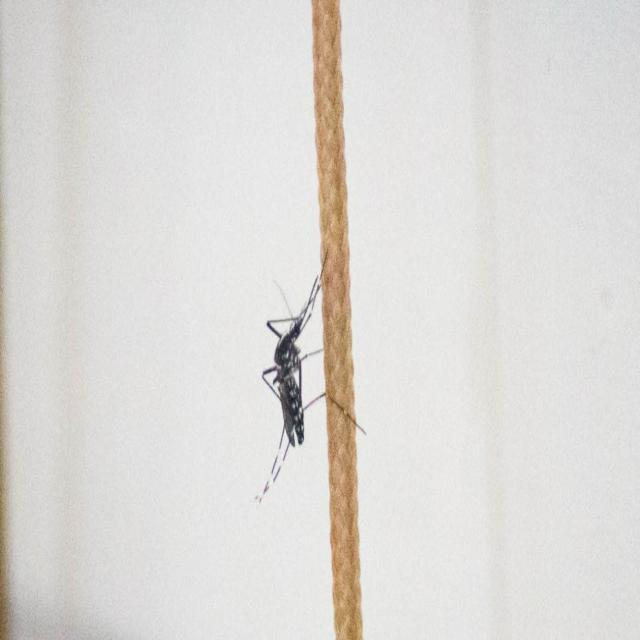albopictus: (248, 250, 367, 509)
